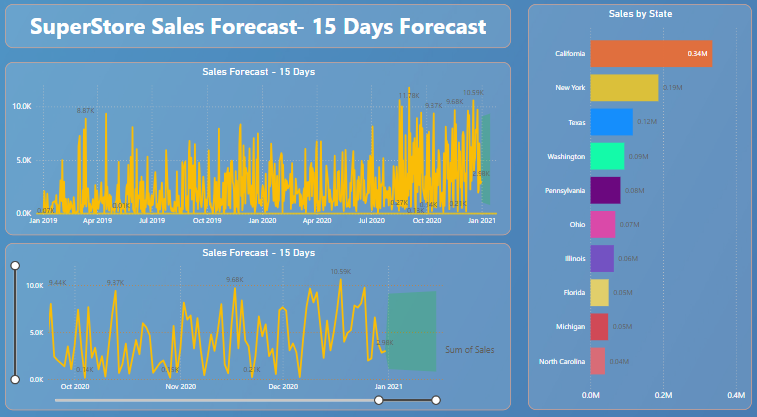

This screenshot's page, from the dashboard's own definition file:
{"tool":"powerbi","page":{"name":"Sales Forecast","canvas":[1280,720],"ordinal":1},"visuals":[{"type":"lineChart","title":"Sales Forecast - 15 Days","fields":{"Y":["Sum(SuperStore_Sales_Dataset.Sales)"],"Category":["SuperStore_Sales_Dataset.Order Date"]},"box":[13.4,117.6,850,290.6],"z":0},{"type":"lineChart","title":"Sales Forecast - 15 Days","fields":{"Y":["Sum(SuperStore_Sales_Dataset.Sales)"],"Category":["SuperStore_Sales_Dataset.Order Date"]},"box":[13.4,421.6,850,280.5],"z":1000},{"type":"clusteredBarChart","title":"Sales by State","fields":{"Category":["SuperStore_Sales_Dataset.State"],"Y":["Sum(SuperStore_Sales_Dataset.Sales)"]},"box":[892,20.2,376.3,682],"z":2000},{"type":"textbox","box":[13.4,20.2,850,73.9],"z":2001}]}

Visuals, with their boxes in screenshot pixels (x1, y1, x2, y2), scaled from the page's 1280x720 canvas onto the 757x417 screenshot:
"Sales Forecast - 15 Days" lineChart: (left=8, top=68, right=511, bottom=236)
"Sales Forecast - 15 Days" lineChart: (left=8, top=244, right=511, bottom=407)
"Sales by State" clusteredBarChart: (left=528, top=12, right=750, bottom=407)
textbox: (left=8, top=12, right=511, bottom=54)
